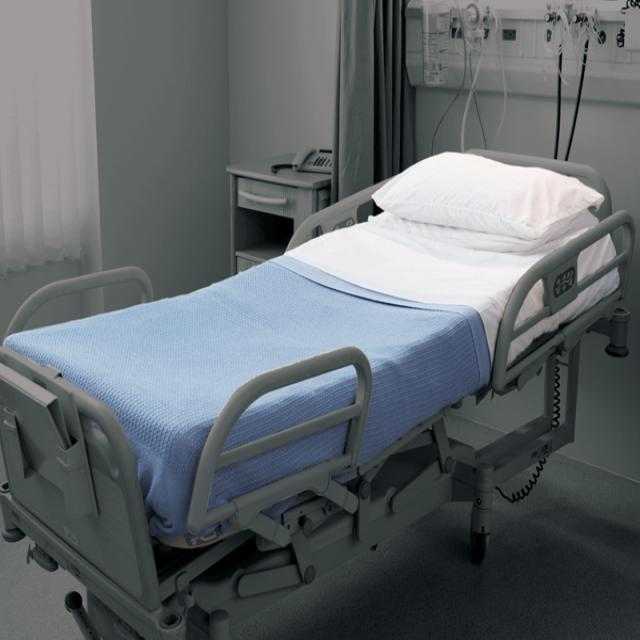patient_bed: (35, 148, 631, 493)
